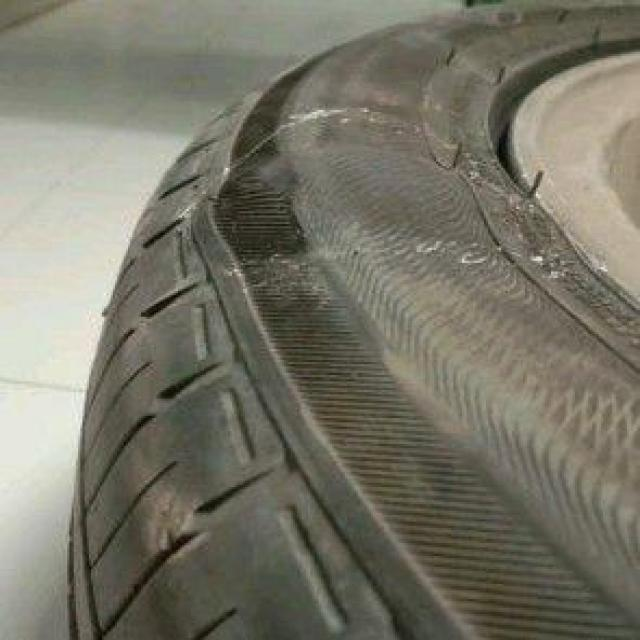Bulge: (191, 125, 482, 276)
